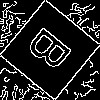B: (24, 24, 81, 80)
